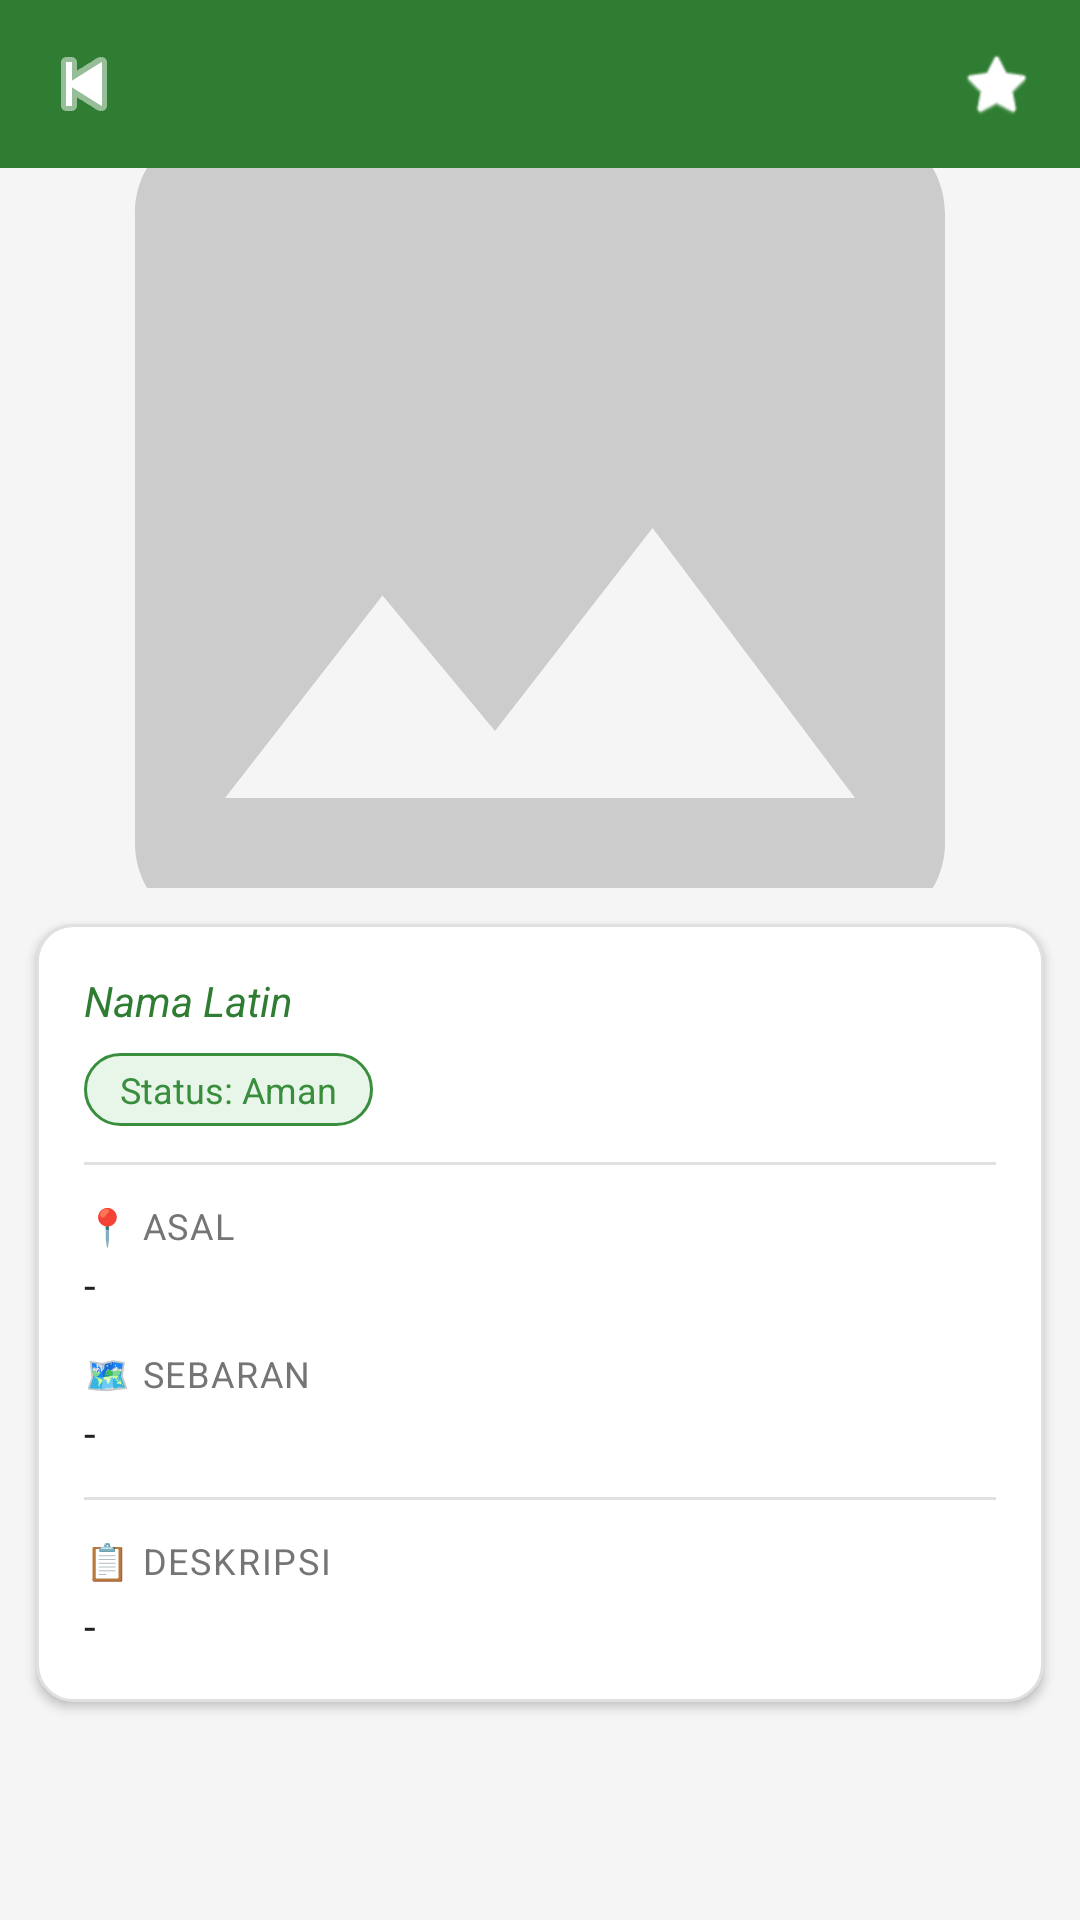

Named icons in this screenshot (1080 x 1920) and their bounding boxes, [x1=x1, y1=y1, x2=x2, y2=y2]:
star off: [x1=967, y1=55, x2=1027, y2=114]
